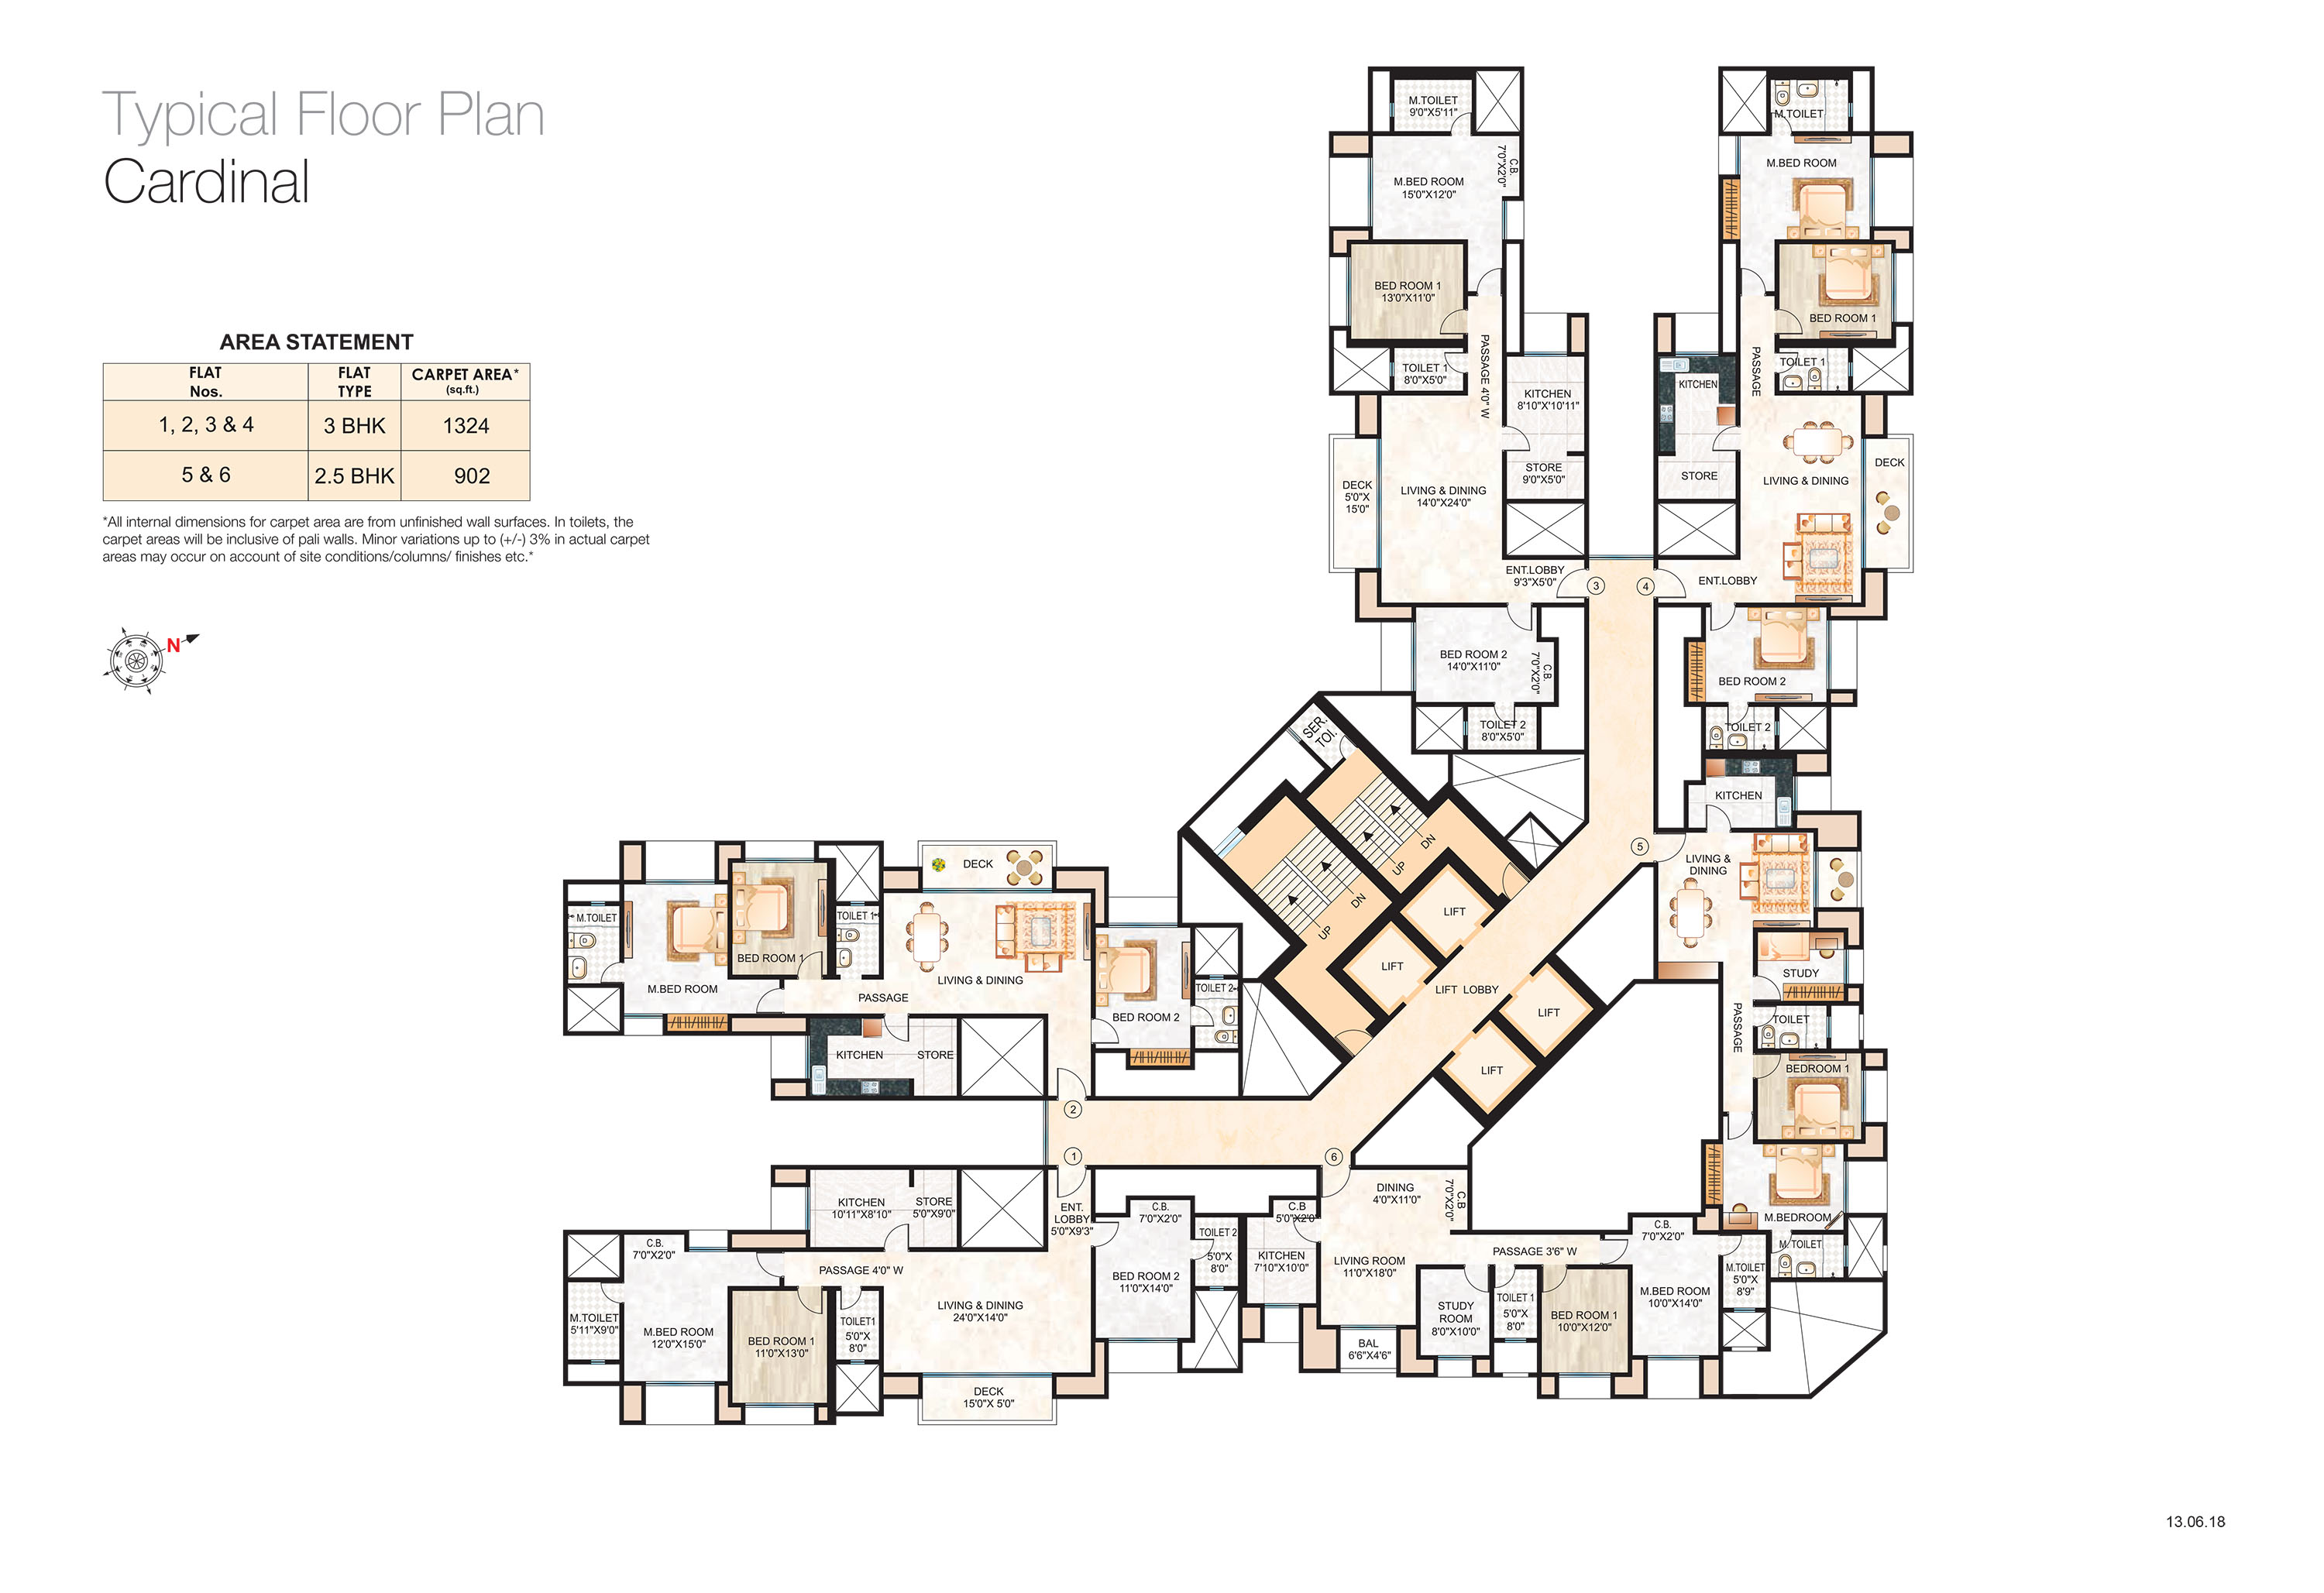window: (742, 839, 816, 865), (918, 1369, 1054, 1381), (1860, 436, 1868, 569), (685, 1227, 729, 1252), (645, 1378, 717, 1392), (743, 1399, 816, 1413), (1105, 1335, 1181, 1348), (1376, 436, 1383, 569), (1556, 1369, 1612, 1381), (1644, 1351, 1701, 1363), (1409, 618, 1418, 692), (1367, 155, 1376, 228), (1824, 618, 1833, 689), (1890, 251, 1898, 321), (1588, 553, 1655, 562), (1339, 1323, 1397, 1332), (1812, 849, 1821, 908), (1346, 254, 1353, 327), (1842, 1159, 1851, 1215), (1860, 1067, 1868, 1123), (1868, 154, 1875, 224), (1732, 132, 1743, 177), (1434, 1353, 1475, 1363), (1263, 1300, 1302, 1310), (1522, 350, 1568, 359), (1499, 198, 1508, 244), (1674, 350, 1718, 359), (1791, 775, 1800, 811), (1731, 1305, 1757, 1316), (1501, 1335, 1531, 1344), (1844, 947, 1851, 984), (1842, 1242, 1851, 1268), (1206, 1284, 1226, 1295), (1824, 1015, 1833, 1038), (1847, 101, 1854, 120), (1847, 360, 1854, 378), (1773, 721, 1780, 736), (1390, 360, 1395, 380)
